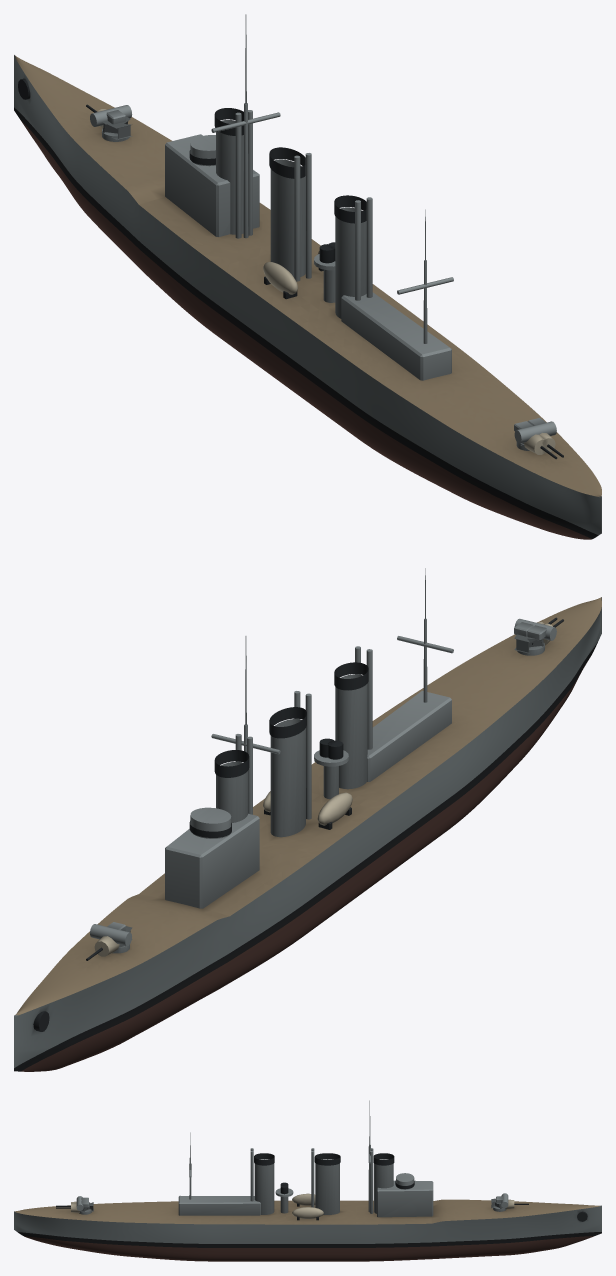
The model's file is hms-meteor.glb.
The picture shows the model from 3 angles, top to bottom: view 1: azimuth 30°, elevation 25°; view 2: azimuth 150°, elevation 25°; view 3: azimuth 270°, elevation 25°; orthographic projection. The views are drawn at different scales.
Parts seen in each view (by area): view 1: hms-meteor; view 2: hms-meteor; view 3: hms-meteor.
Boxes of the visible parts, <box> form: hms-meteor: <box>14,14,601,539</box>; hms-meteor: <box>14,568,601,1071</box>; hms-meteor: <box>14,1100,601,1261</box>.
Bounding box in the file's own units: 8.14 × 24.05 × 83.6.
